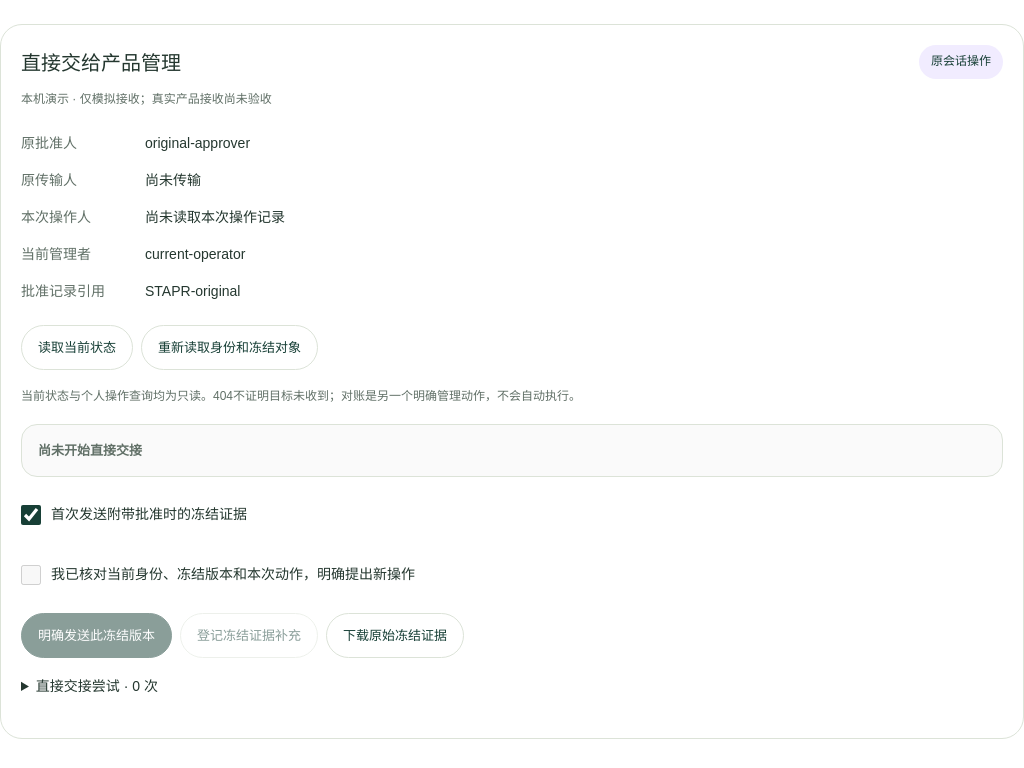
Test: direct context component intent boundaries › context conflict keeps new send closed and reports authoritative identity error
Expected: the text "尚未开始直接交接" is shown, [38,442,142,458]
Click the button "重新读取身份和冻结对象" at (230, 347), box [141,324,318,370]
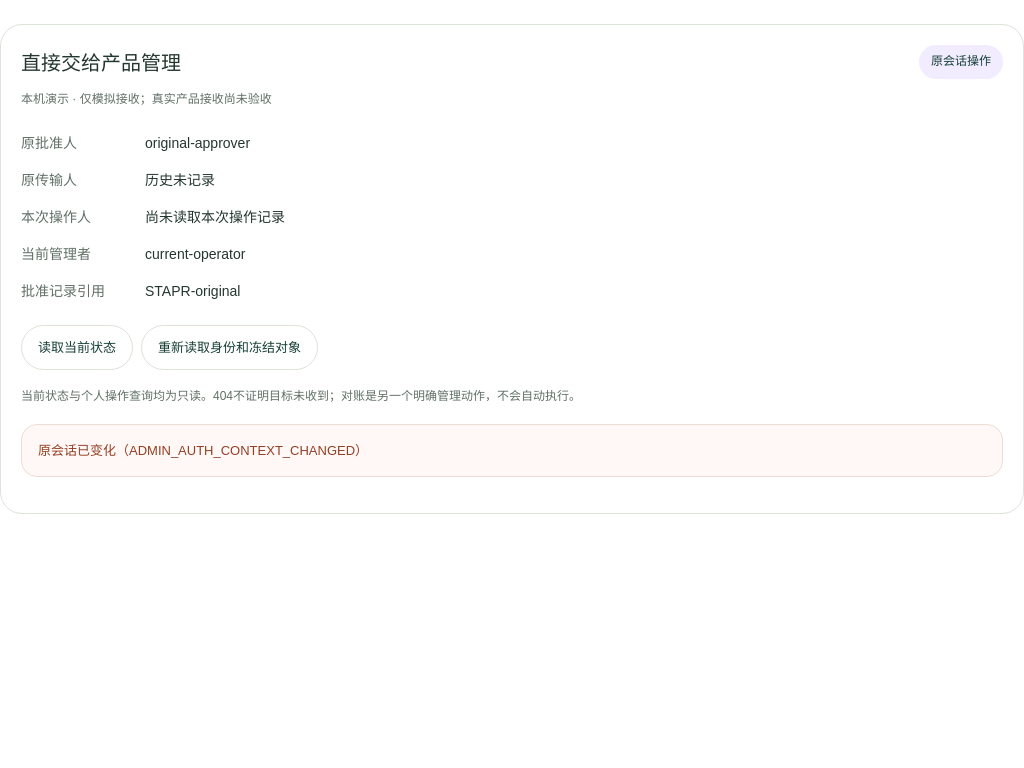
Expected: the message shows "ADMIN_AUTH_CONTEXT_CHANGED", [38,442,368,458]
